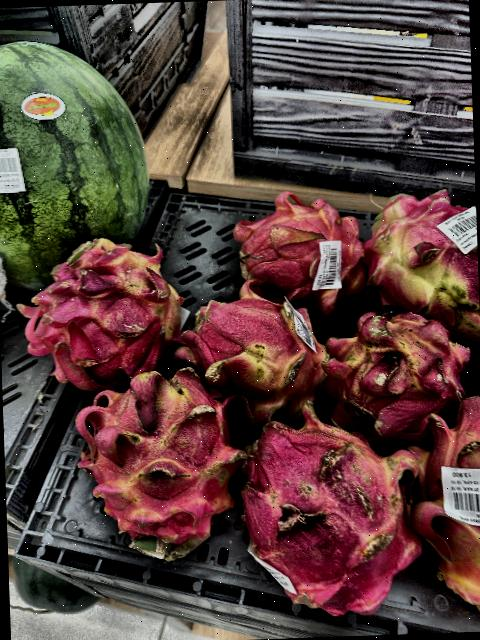buah-naga-belum-matang: (73, 375, 242, 569), (23, 241, 186, 378), (180, 288, 330, 422), (316, 307, 466, 433), (363, 184, 480, 341), (405, 394, 480, 626)
buah-naga-matang: (241, 392, 420, 612), (225, 195, 370, 308)
